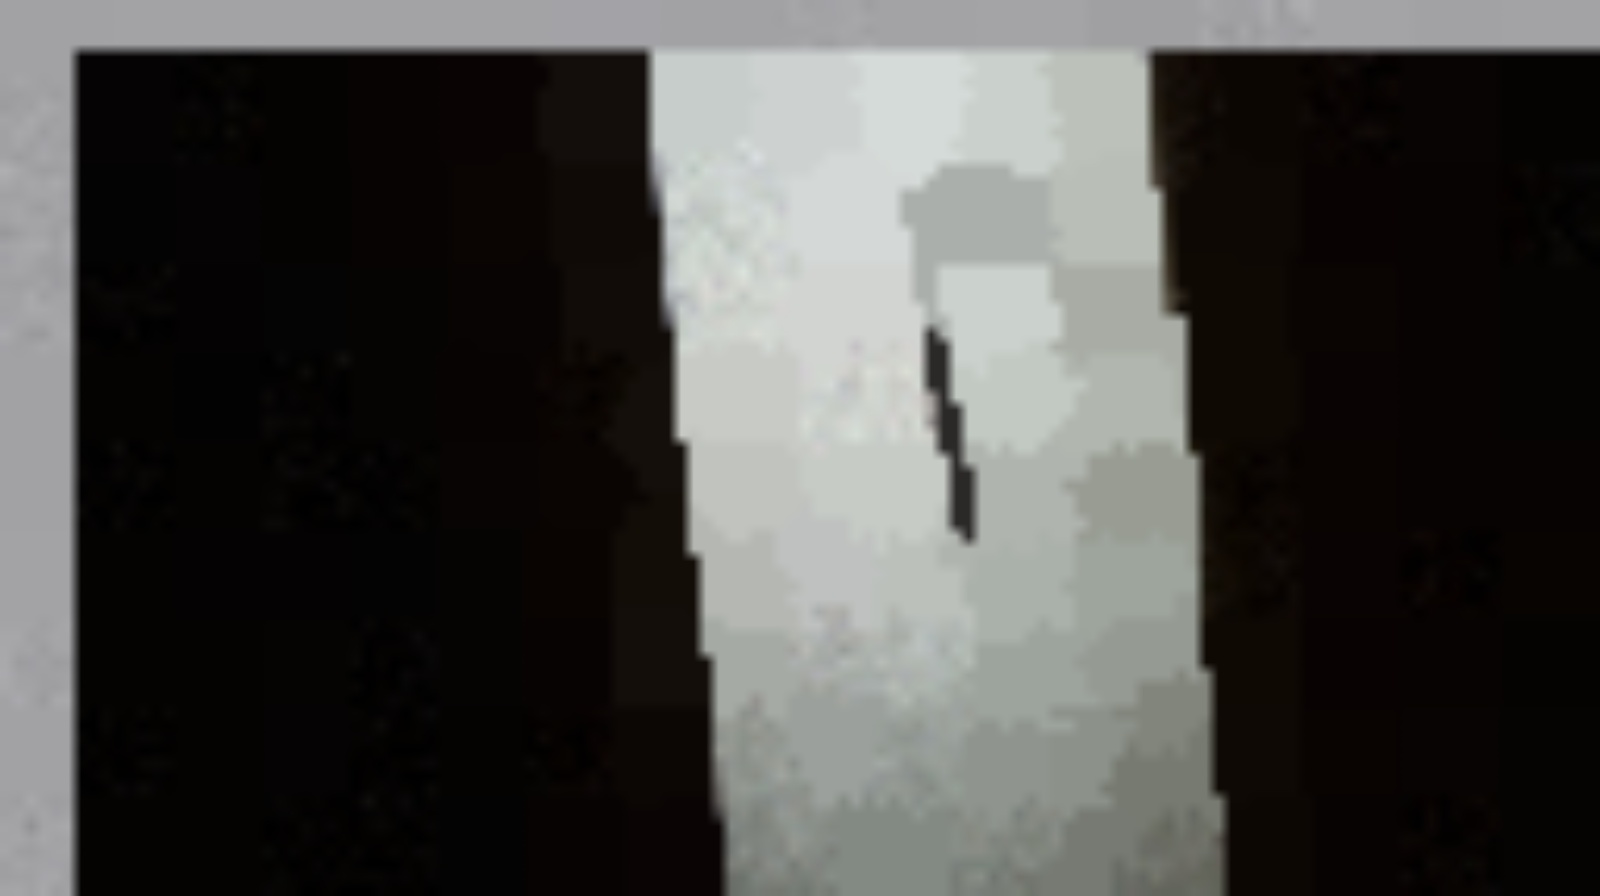S002: (864, 162, 1036, 572)
